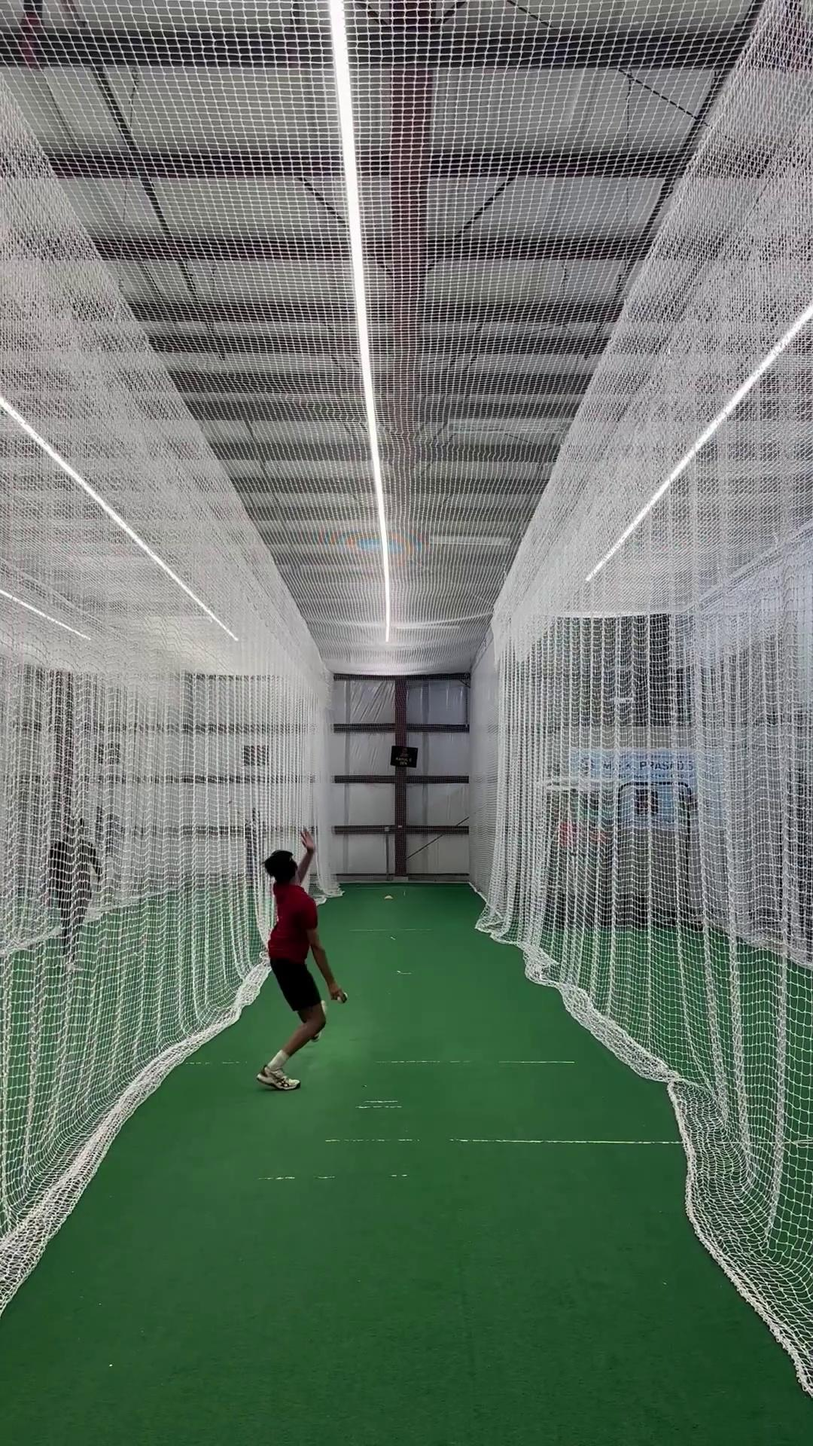ball: (333, 987, 352, 1009)
